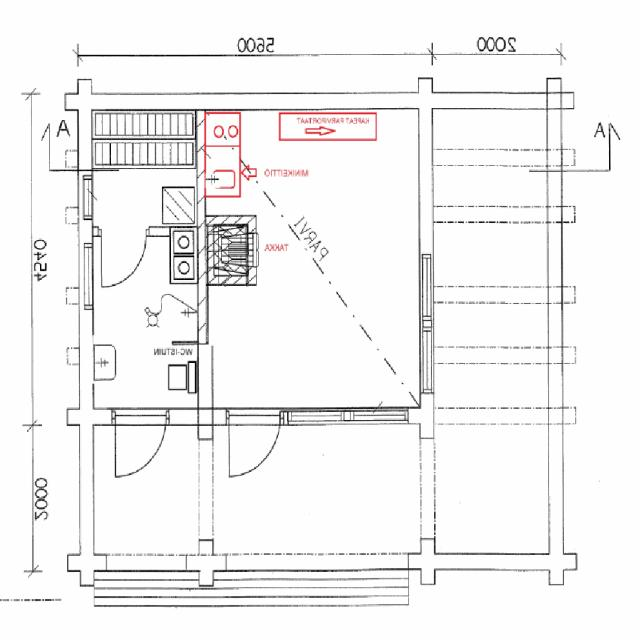door: (229, 407, 281, 483), (115, 408, 166, 482), (102, 226, 146, 287)
